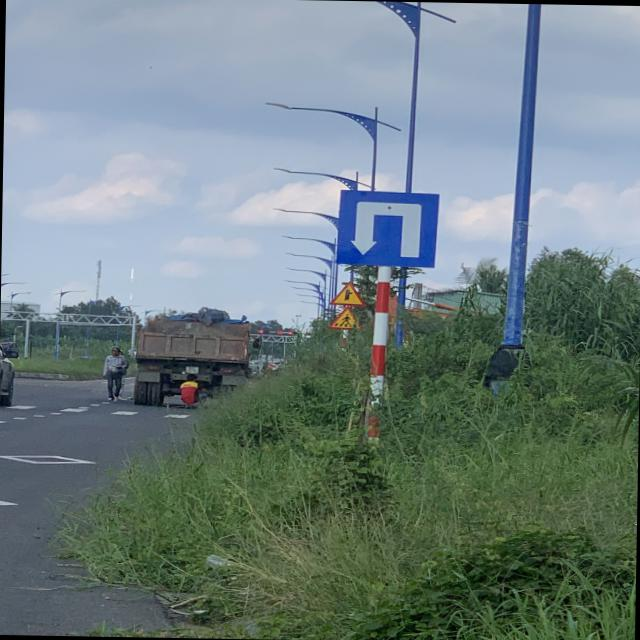Den_Giao_Thong: (338, 190, 440, 266)
